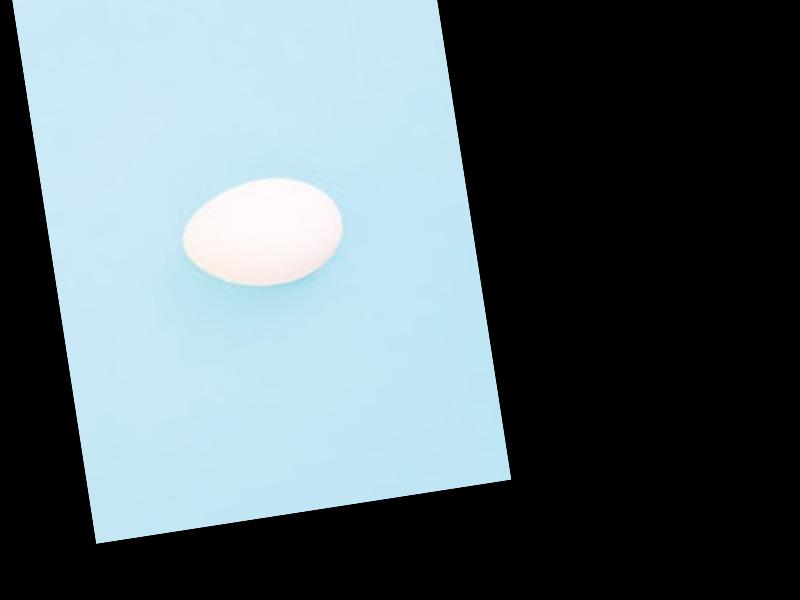Eggs: (172, 169, 350, 299)
